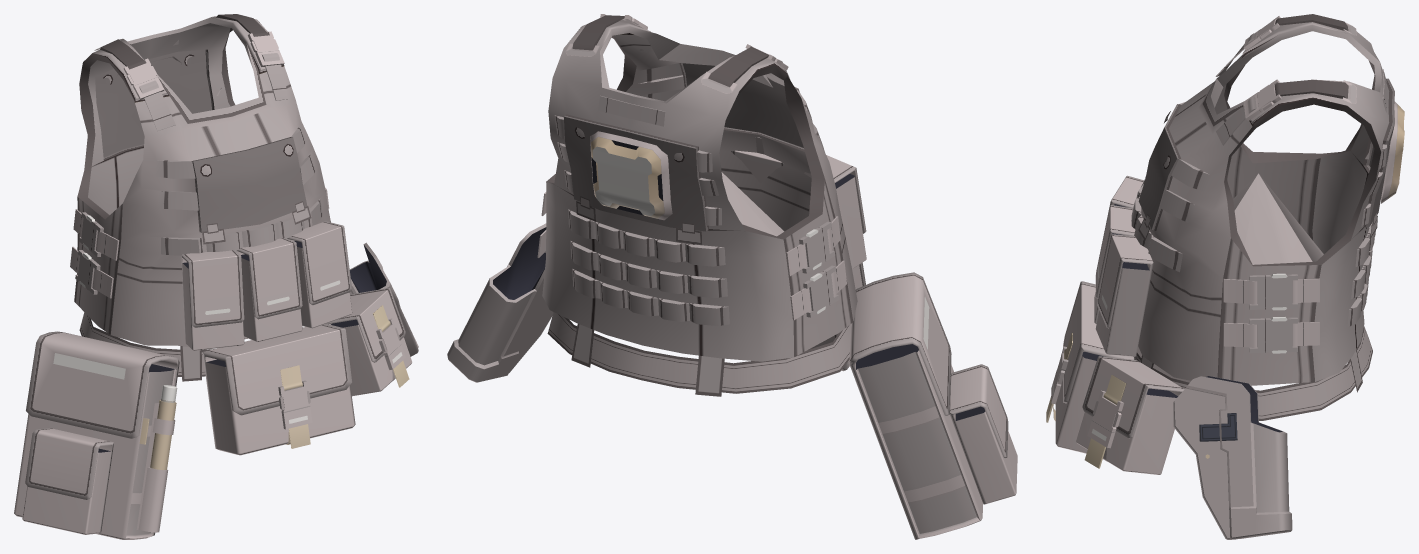
The model's file is armor.fbx.
The picture shows the model from 3 angles, left to right: view 1: azimuth 30°, elevation 25°; view 2: azimuth 150°, elevation 25°; view 3: azimuth 270°, elevation 25°; orthographic projection. The views are drawn at different scales.
Parts seen in each view (by area): view 1: polySurface724, polySurface678, polySurface713, polySurface686, polySurface721, polySurface684, polySurface617; view 2: polySurface724, polySurface721, polySurface678, polySurface617, polySurface713; view 3: polySurface724, polySurface721, polySurface617, polySurface684, polySurface713, polySurface686.
Part boxes in pixels (x1,y1,x2,y2): polySurface724: (74,14,330,345); polySurface678: (14,331,179,539); polySurface713: (181,221,352,350); polySurface686: (202,323,355,455); polySurface721: (70,16,329,381); polySurface684: (326,288,412,396); polySurface617: (349,242,418,356); polySurface724: (542,15,857,361); polySurface721: (537,14,851,396); polySurface678: (849,272,1017,539); polySurface617: (447,223,553,382); polySurface713: (731,150,866,268); polySurface724: (1131,14,1394,385); polySurface721: (1134,16,1404,420); polySurface617: (1173,376,1292,539); polySurface684: (1076,356,1184,474); polySurface713: (1094,175,1153,356); polySurface686: (1046,281,1134,453).
Size of the model in its own units: 0.3642 by 0.3301 by 0.2321.
